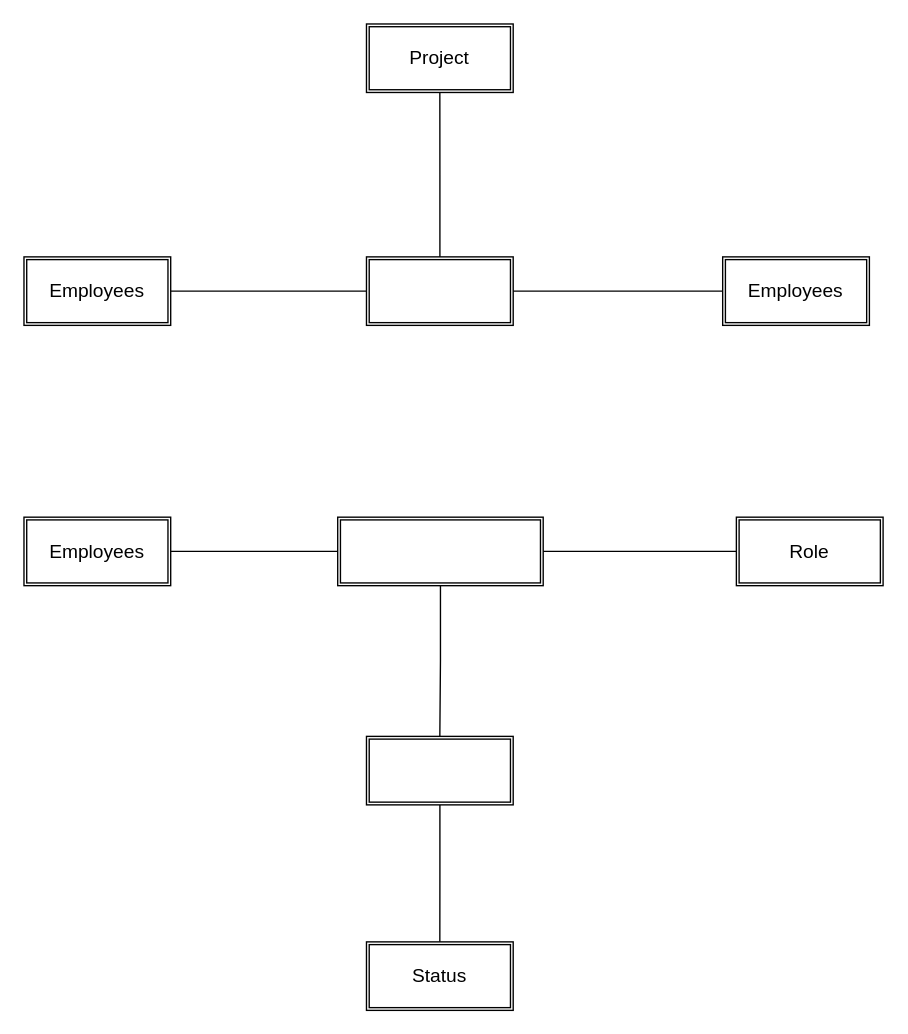
Some shapes in this 908 by 1034 pixel diagram are drawn without their labels. Each missing label, with the centre of its shape:
Task: pixel 439 770
TaskAssignment: pixel 439 551
Worklog: pixel 439 290
